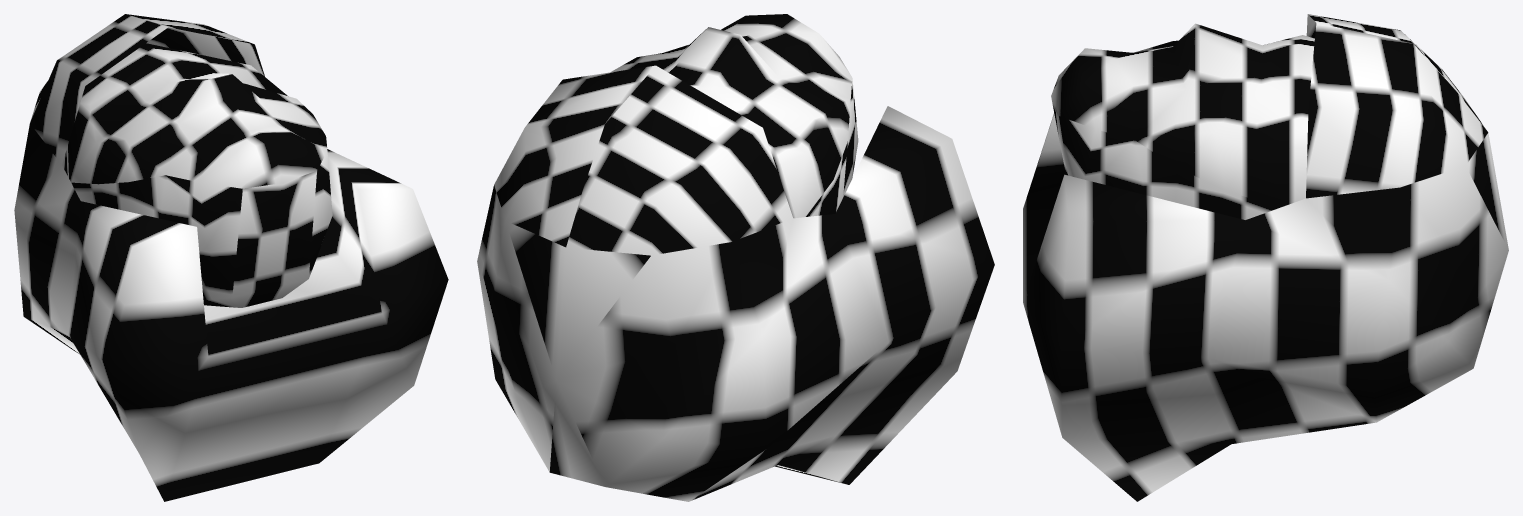
The model's file is infaunhufefa2.dae.
3 views of the same model, side by side, from view 1: azimuth 30°, elevation 25°; view 2: azimuth 150°, elevation 25°; view 3: azimuth 270°, elevation 25° (orthographic). The views are drawn at different scales.
Parts seen in each view (by area): view 1: face; view 2: face; view 3: face.
Part boxes in pixels (bbox=[...]): face: bbox=[14, 14, 448, 501]; face: bbox=[477, 14, 994, 501]; face: bbox=[1023, 14, 1508, 501].
Size of the model in its own units: 1.47 by 1.63 by 1.64.
Materials: 1 (1 with a texture image).
